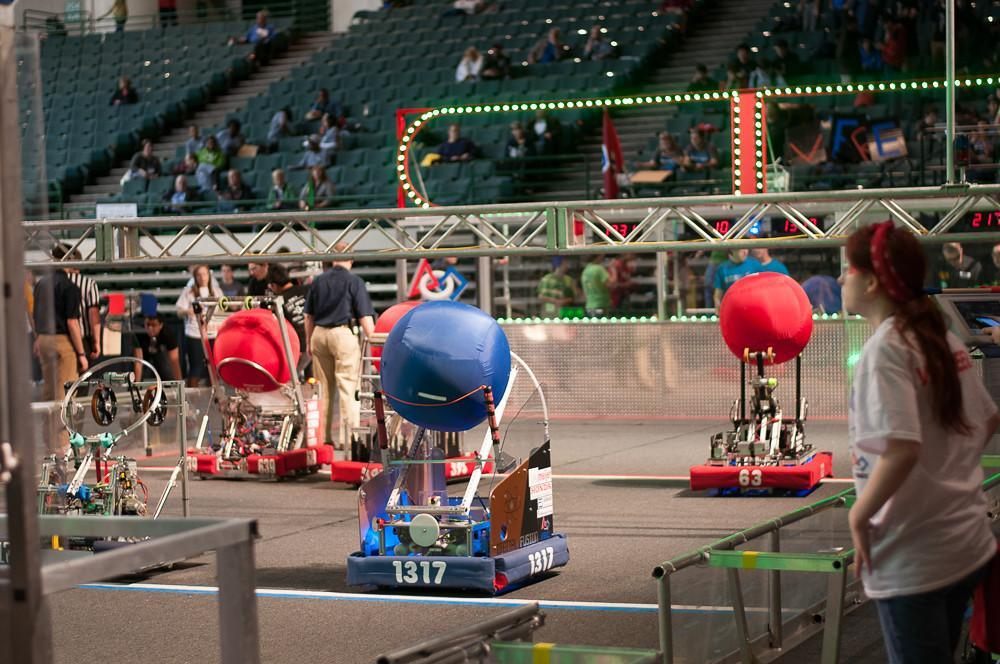robot: (344, 293, 572, 596), (37, 347, 213, 589), (683, 269, 836, 503), (329, 289, 500, 497), (195, 281, 340, 486)
